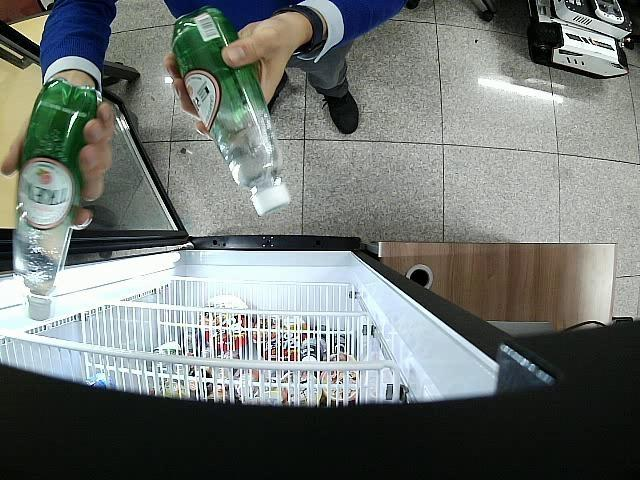18_trevi: (173, 8, 290, 216), (14, 76, 102, 322)
